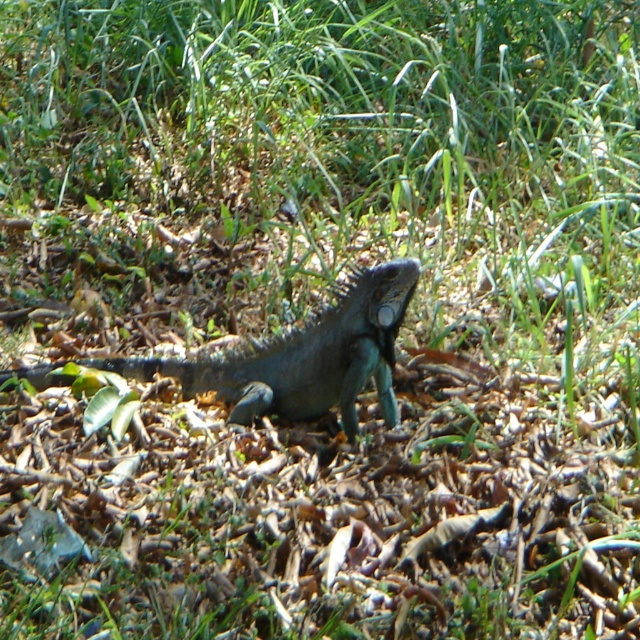Lizard: (2, 255, 420, 451)
